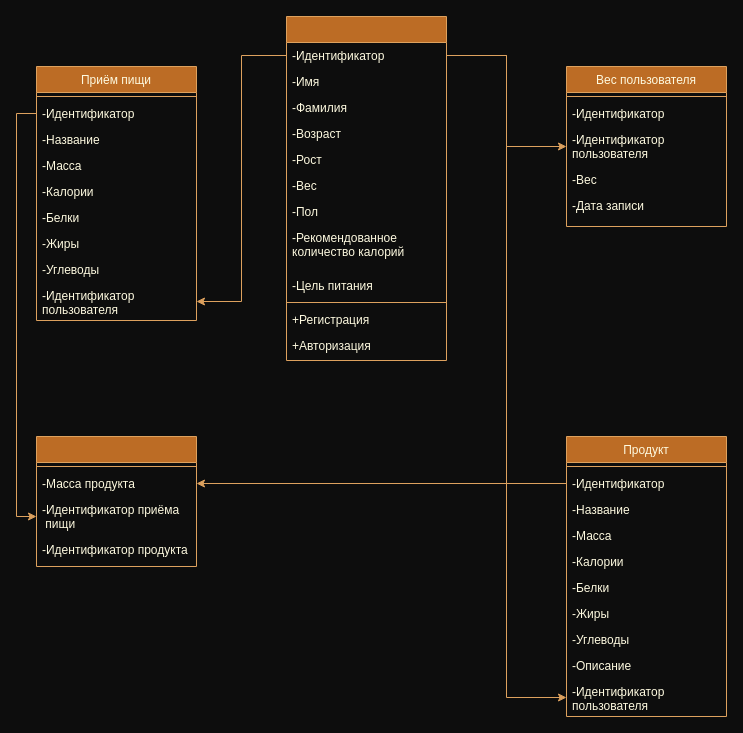
This 743x733 diagram has some shape labels left out. Here are the shapes that lost their labels. From the top down, the box of each, then its label:
(286, 16, 446, 360): Пользователь
(36, 436, 196, 566): Продукты приёма пищи
